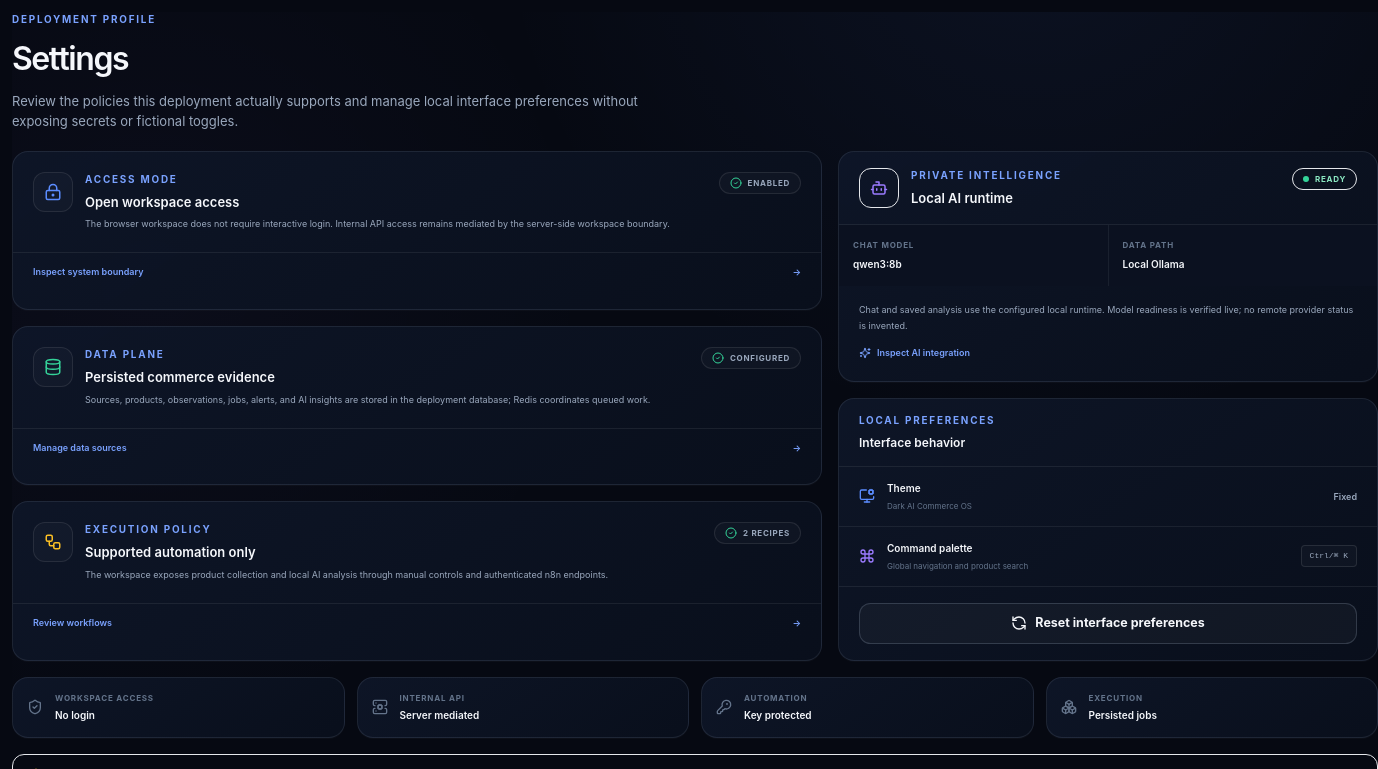
it: commerce workspaces › shows the no-login deployment policy and resets local interface preferences
Check: the heading "Settings" is shown, box [12, 39, 128, 78]
Check: the heading "Open workspace access" is shown, box [85, 194, 239, 210]
Click the button "Reset interface preferences": (1108, 623) [859, 603, 1357, 644]
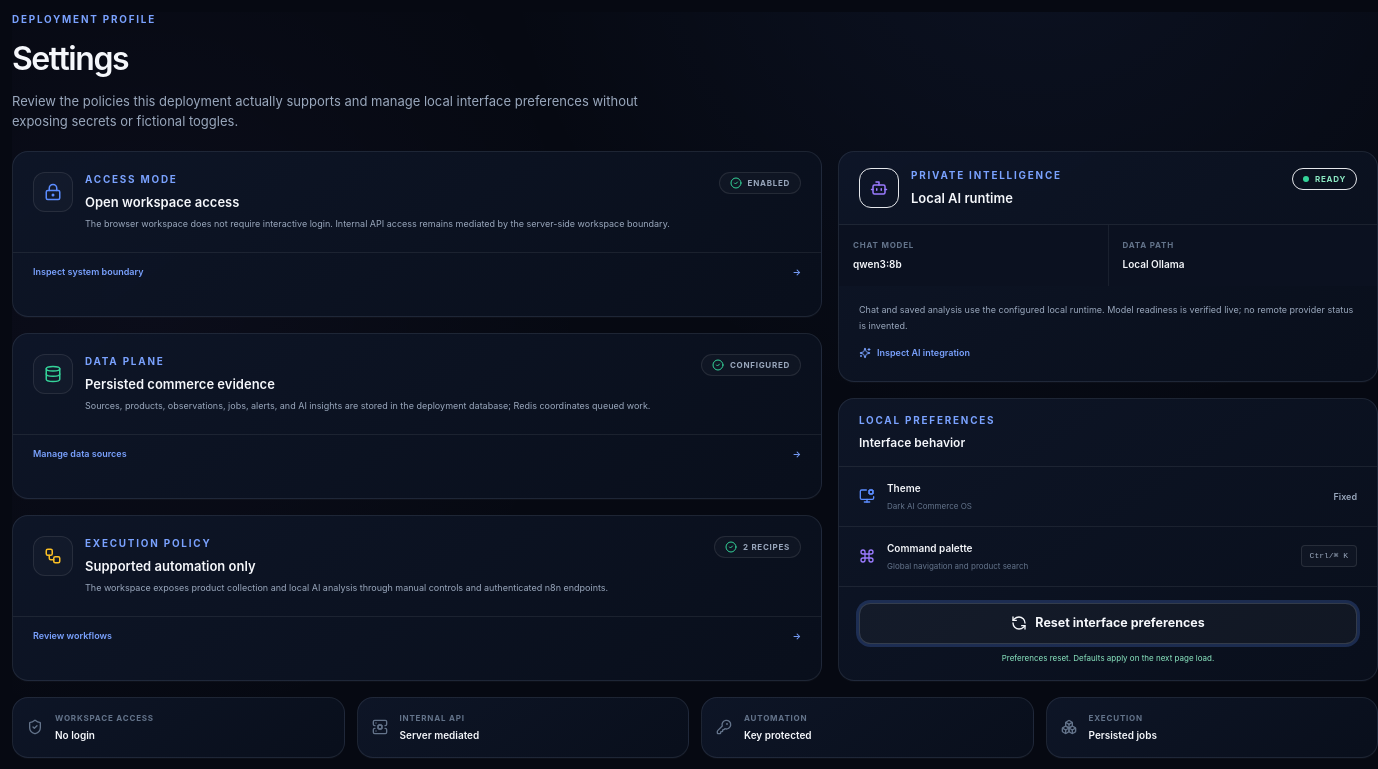
Check: the message shows "Preferences reset", box [1002, 653, 1214, 663]
